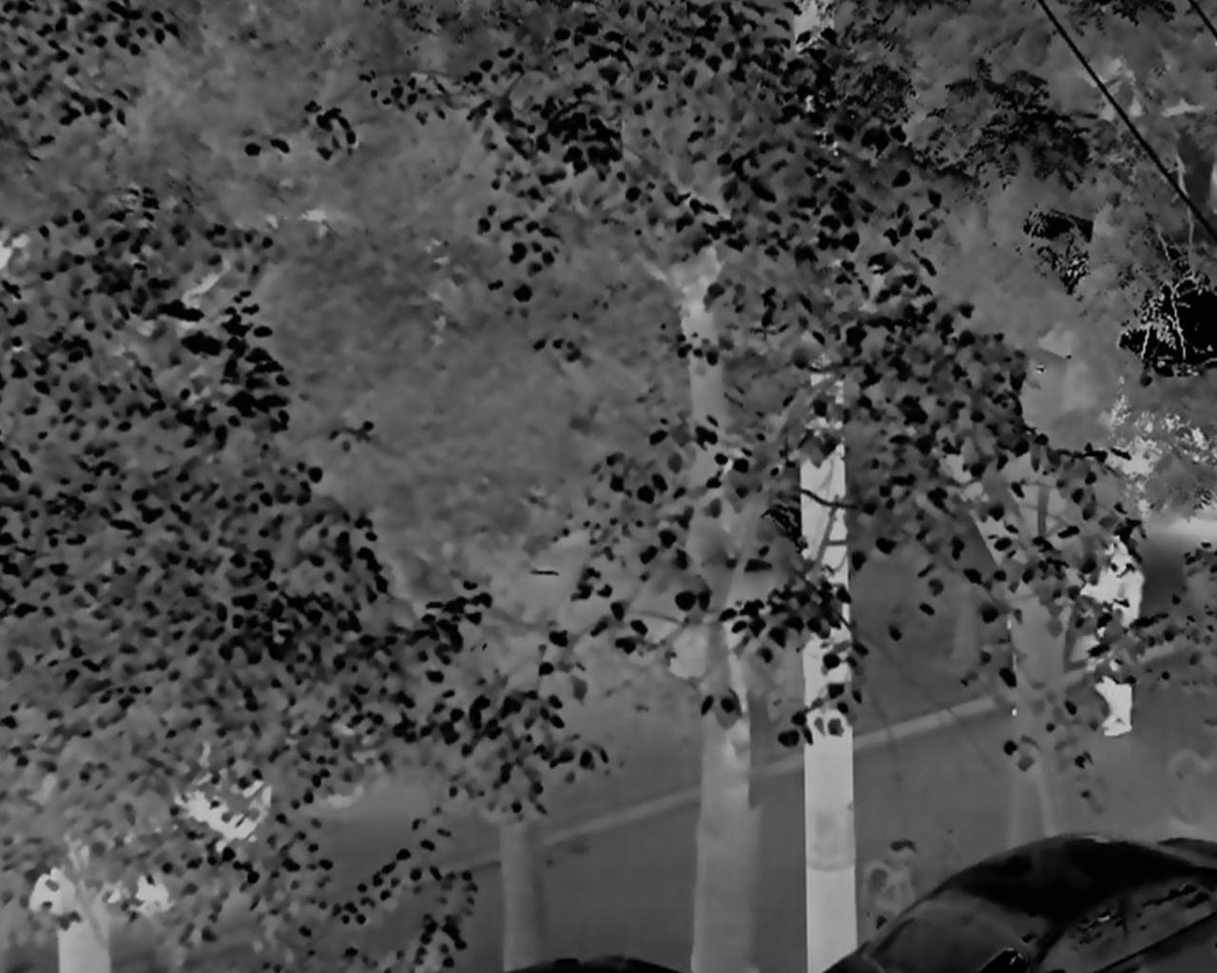person: (1091, 526, 1145, 734)
